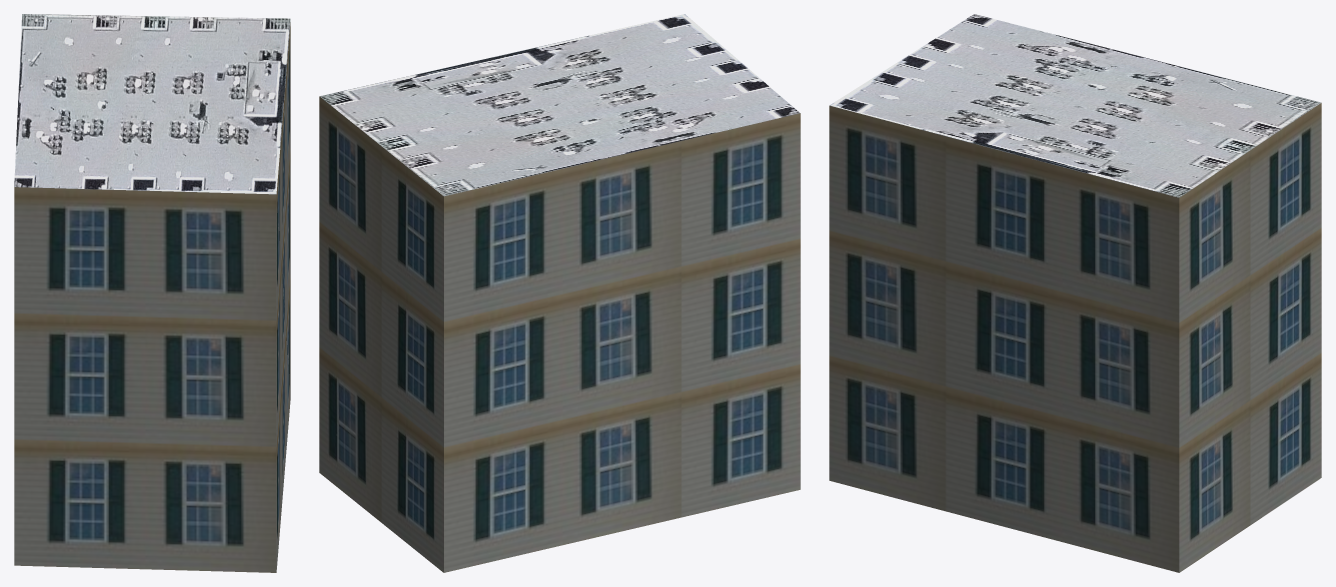
The model's file is ResTex__4987.fbx.
3 renders of one model, left to right at view 1: azimuth 30°, elevation 25°; view 2: azimuth 150°, elevation 25°; view 3: azimuth 270°, elevation 25°, orthographic.
Parts seen in each view (by area): view 1: CityEngineMaterial_7_m, CityEngineMaterial_4_m; view 2: CityEngineMaterial_7_m, CityEngineMaterial_4_m; view 3: CityEngineMaterial_7_m, CityEngineMaterial_4_m.
Part boxes in pixels (x1=…): CityEngineMaterial_7_m: x1=14, y1=22, x2=290, y2=572; CityEngineMaterial_4_m: x1=14, y1=14, x2=290, y2=194; CityEngineMaterial_7_m: x1=319, y1=96, x2=800, y2=572; CityEngineMaterial_4_m: x1=320, y1=14, x2=800, y2=196; CityEngineMaterial_7_m: x1=829, y1=103, x2=1321, y2=572; CityEngineMaterial_4_m: x1=829, y1=14, x2=1321, y2=197.
Size of the model in its own units: 9.45 by 9 by 10.7.
2 materials, 2 textured.
